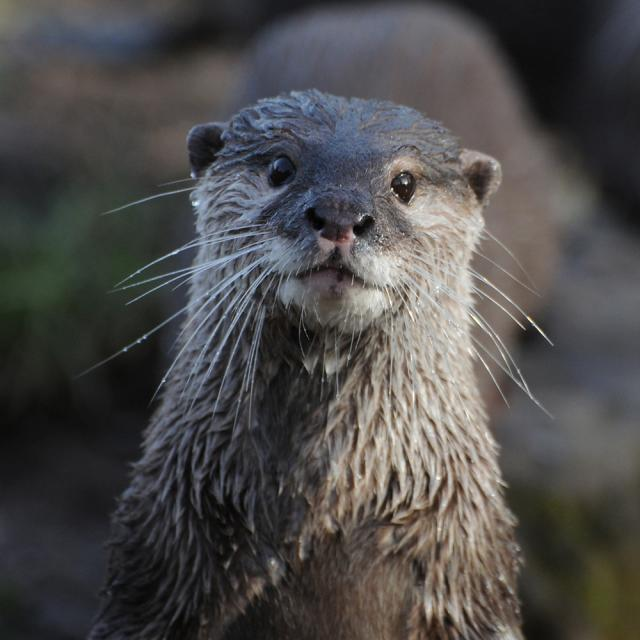otter: (100, 92, 522, 640)
